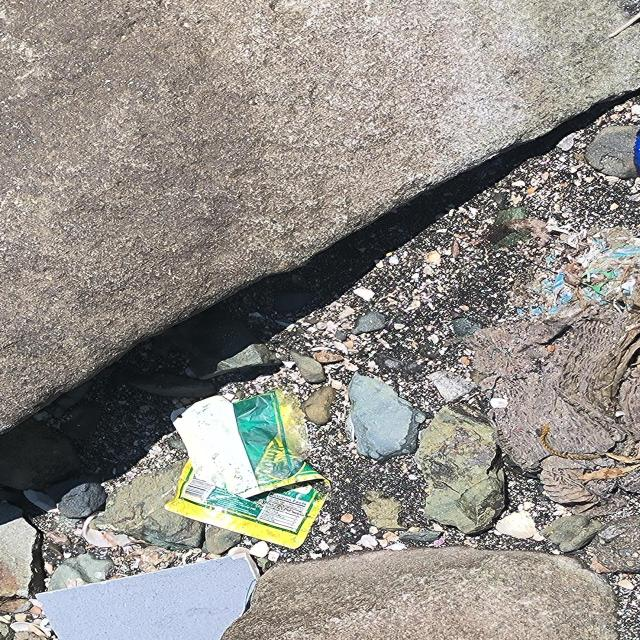plastic_waste: (168, 389, 332, 549)
